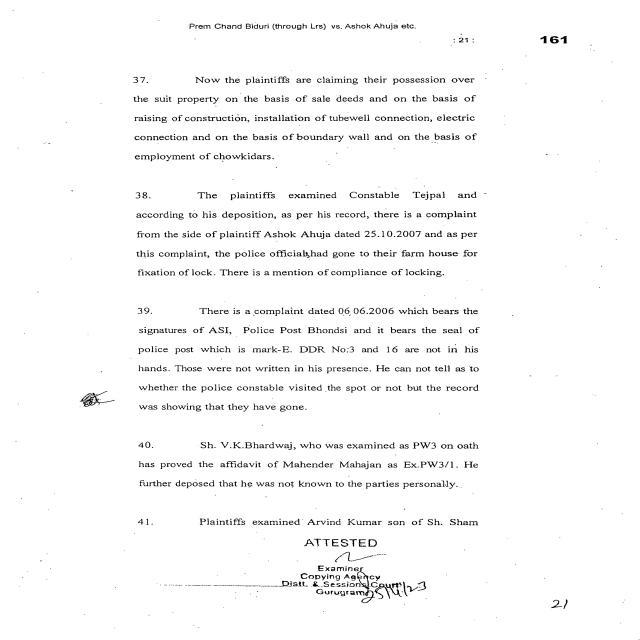page-number: (463, 0, 640, 47)
